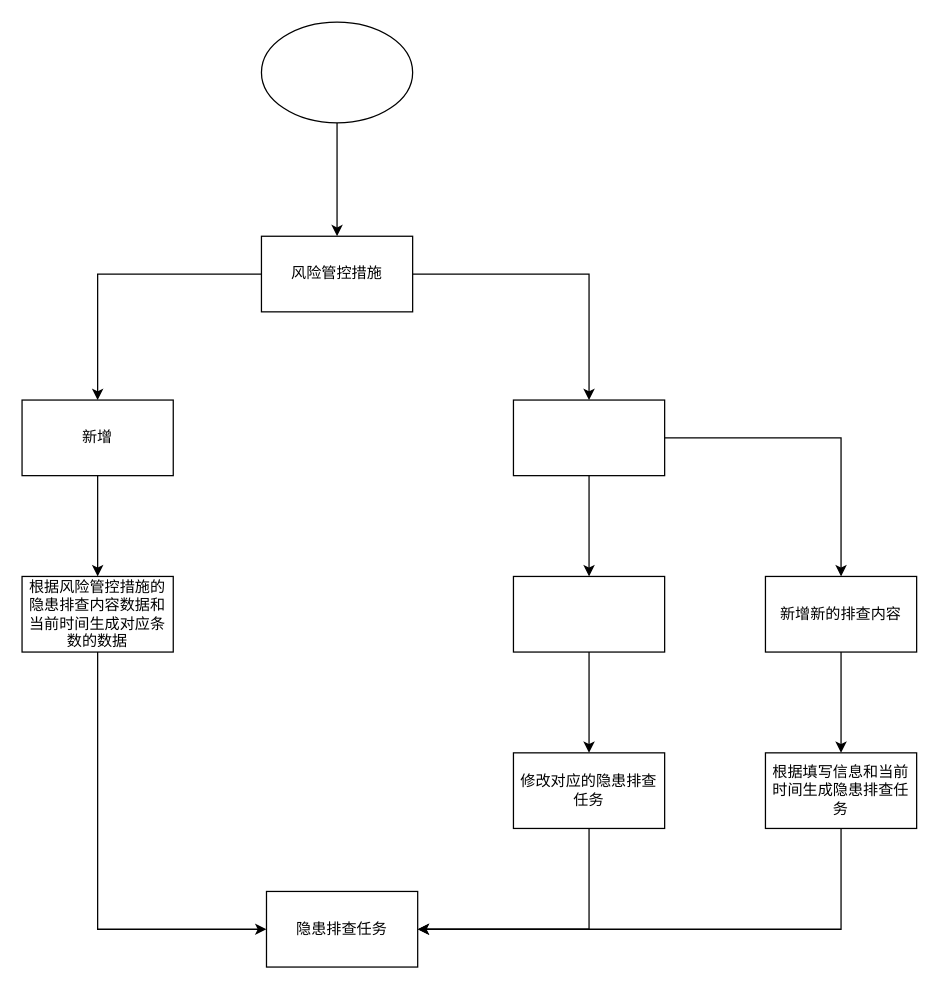
The diagram is 939 pixels wide and 989 high, and some of its shapes have lost their labels. The shapes that lost their labels are listed below. From the top down, each one's centre as x and y in pixels, then its label:
the point at 336,72: 开始
the point at 588,437: 修改
the point at 588,613: 修改原有的风险管控措施的排查内容
